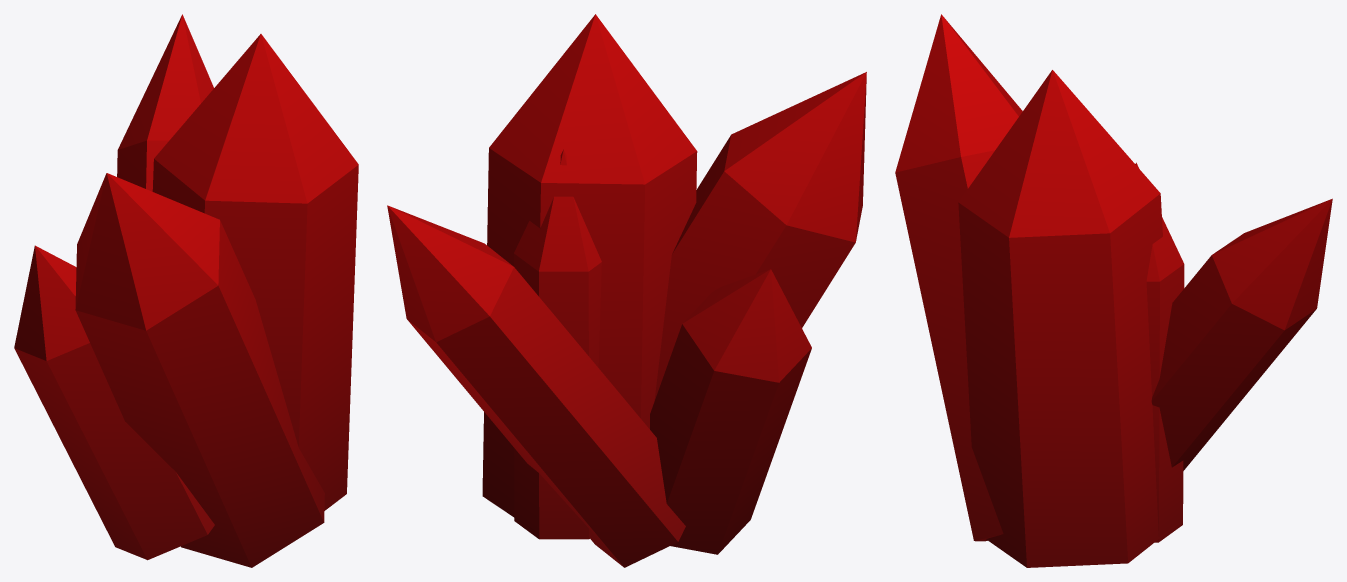
The model's file is crystal_1.glb.
The picture shows the model from 3 angles, left to right: view 1: azimuth 30°, elevation 25°; view 2: azimuth 150°, elevation 25°; view 3: azimuth 270°, elevation 25°; orthographic projection. The views are drawn at different scales.
Parts seen in each view (by area): view 1: crystal_1; view 2: crystal_1; view 3: crystal_1.
Part boxes in pixels (<box>): crystal_1: <box>14,14,358,567</box>; crystal_1: <box>387,14,866,567</box>; crystal_1: <box>895,14,1332,567</box>.
Bounding box in the file's own units: 0.9757 × 1.57 × 1.26.
